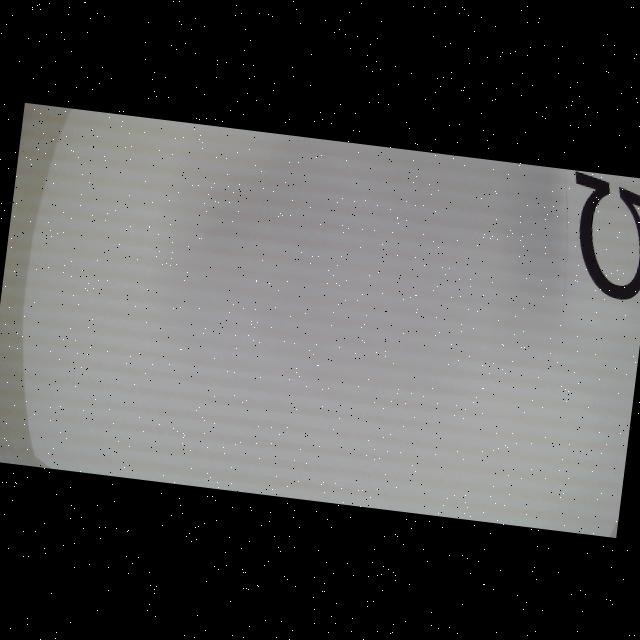OMEGA: (561, 169, 640, 301)
